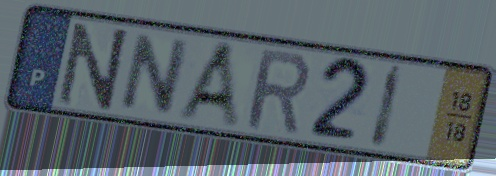2: (301, 55, 377, 147)
A: (173, 39, 244, 133)
I: (366, 61, 408, 153)
N: (54, 20, 133, 113), (114, 30, 195, 117)
R: (243, 46, 312, 138)
